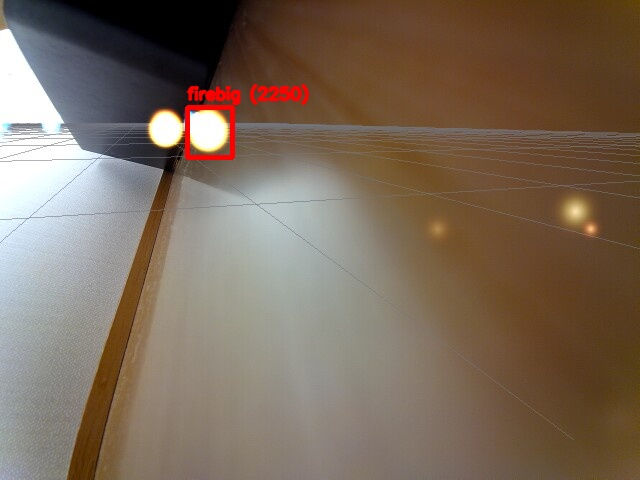firebig: (187, 107, 232, 157)
